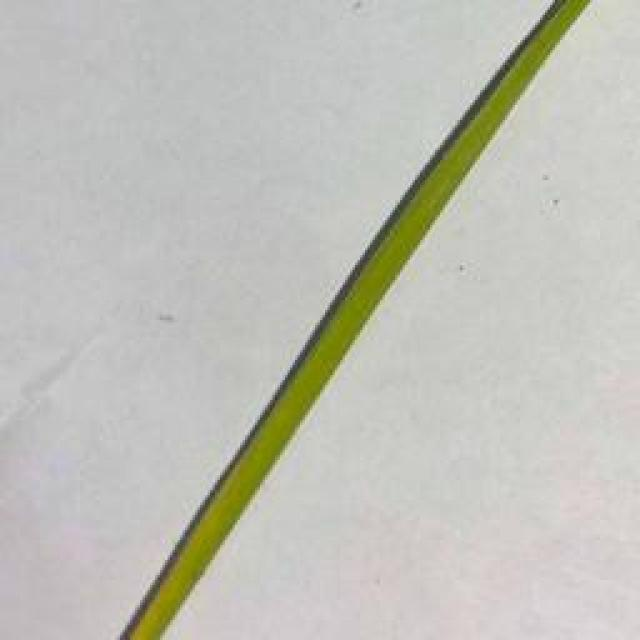Healthy-Plant: (123, 0, 587, 640)
